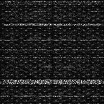lte: (1, 79, 104, 85), (1, 23, 104, 26)
